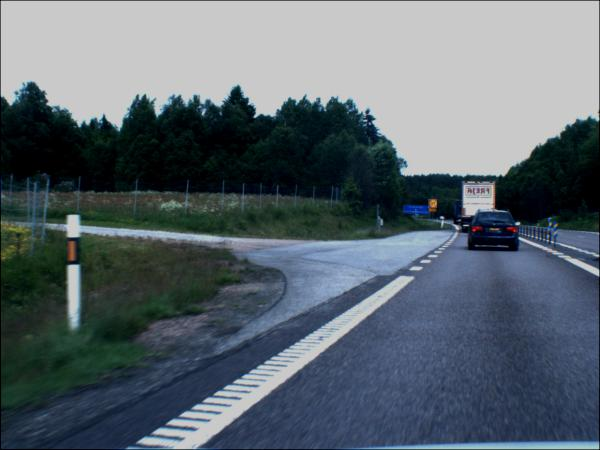70_SIGN: (428, 200, 438, 210)
